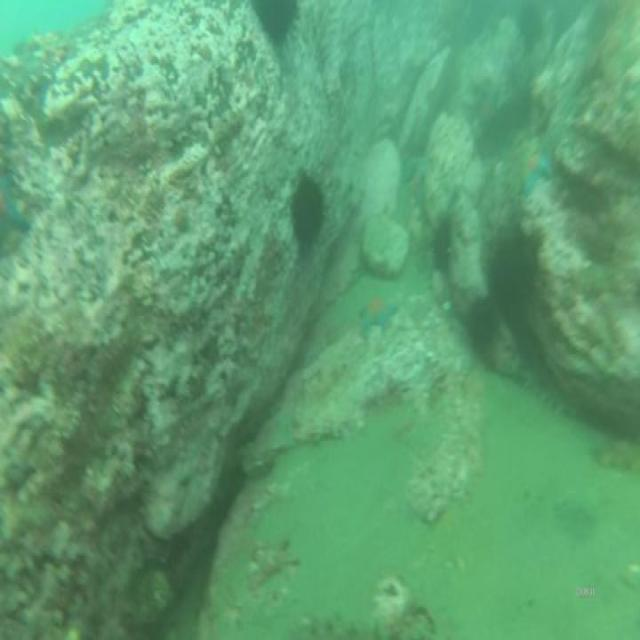echinus: (486, 214, 548, 312), (290, 164, 330, 253), (466, 292, 505, 365), (431, 214, 455, 274)
starfish: (520, 144, 555, 202), (359, 289, 398, 337)
